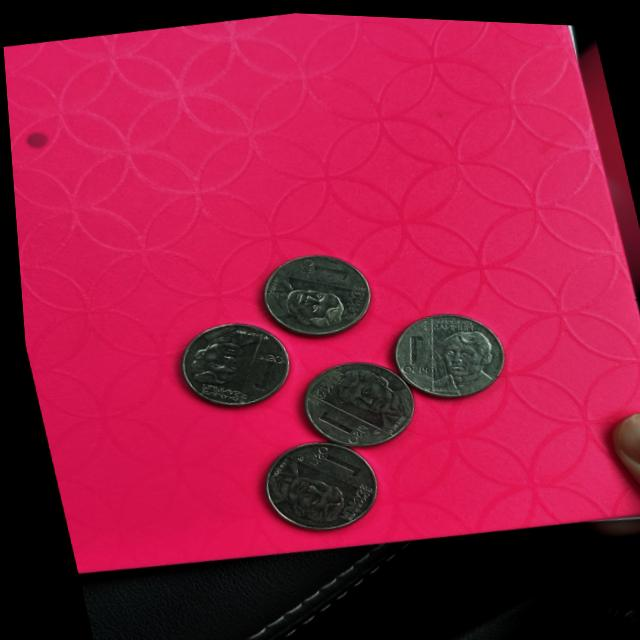1_New_Front: (291, 392, 372, 448), (383, 324, 437, 380), (238, 344, 292, 394), (293, 248, 348, 284), (313, 445, 361, 486)
